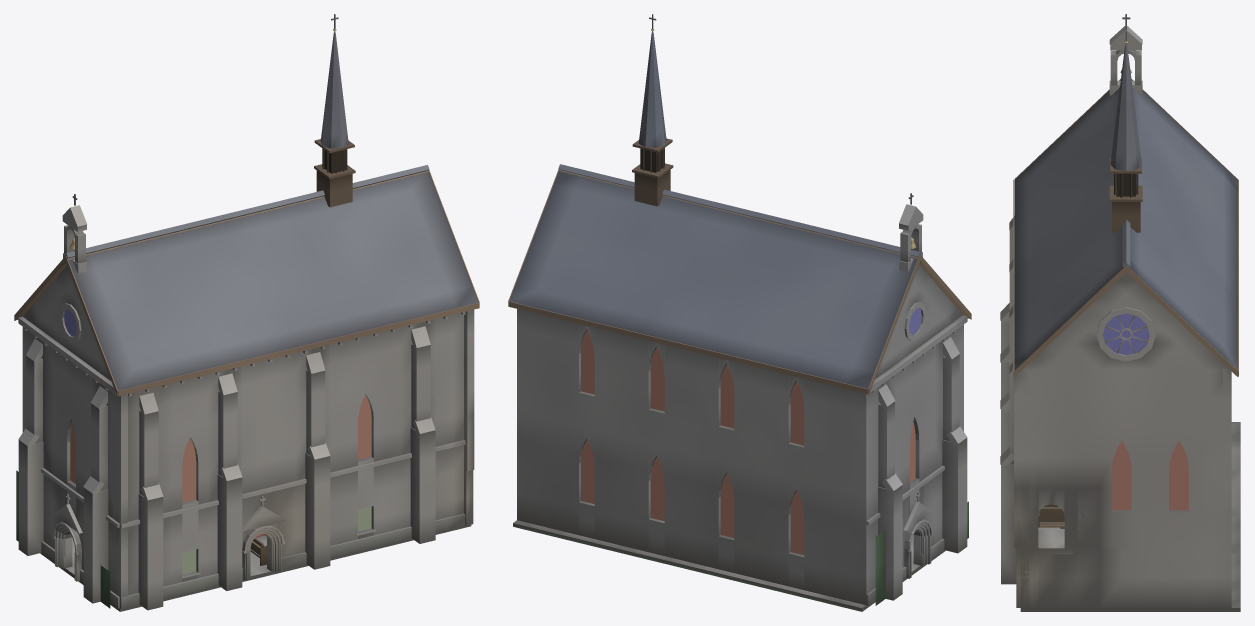
The model's file is chapel.glb.
The picture shows the model from 3 angles, left to right: view 1: azimuth 30°, elevation 25°; view 2: azimuth 150°, elevation 25°; view 3: azimuth 270°, elevation 25°; orthographic projection. The views are drawn at different scales.
Visible parts, largest first — view 1: roof_10x21.001, gable_chapel_west.001, buttress_chapel.004, buttress_chapel.001, buttress_chapel.002, buttress_chapel.003, buttress_chapel.005, buttress_chapel.006, fleche.001, wall_ashlar_tall_lancet.010, wall_ashlar_tall_lancet.009, wall_ashlar_4.040 (+33 smaller); view 2: roof_10x21.001, gable_chapel_west.001, buttress_chapel.006, buttress_chapel.005, fleche.001, wall_ashlar_tall_lancet.007, wall_ashlar_tall_lancet.001, wall_ashlar_tall_lancet.005, wall_ashlar_tall_lancet.003, wall_ashlar_tall_lancet.008, wall_ashlar_tall_lancet.004, wall_ashlar_tall_lancet.002 (+45 smaller); view 3: roof_10x21.001, gable_chapel_east.001, wall_ashlar_4.042, wall_ashlar_4.043, wall_ashlar_tall_lancet.013, fleche.001, wall_ashlar_tall_lancet.012, wall_ashlar_2.052, wall_ashlar_2.053, wall_ashlar_2.051, buttress_chapel.004, wall_ashlar_2.054 (+42 smaller).
Boxes of the visible parts, <box> form: roof_10x21.001: <box>14,165,479,396</box>; gable_chapel_west.001: <box>23,194,110,380</box>; buttress_chapel.004: <box>410,326,435,543</box>; buttress_chapel.001: <box>138,392,163,610</box>; buttress_chapel.002: <box>217,373,242,590</box>; buttress_chapel.003: <box>305,352,330,569</box>; buttress_chapel.005: <box>18,338,43,555</box>; buttress_chapel.006: <box>83,386,108,603</box>; fleche.001: <box>314,14,355,207</box>; wall_ashlar_tall_lancet.010: <box>348,379,383,497</box>; wall_ashlar_tall_lancet.009: <box>172,421,207,540</box>; wall_ashlar_4.040: <box>383,361,453,433</box>; roof_10x21.001: <box>508,164,971,394</box>; gable_chapel_west.001: <box>875,193,962,379</box>; buttress_chapel.006: <box>942,337,967,553</box>; buttress_chapel.005: <box>878,384,902,600</box>; fleche.001: <box>632,14,673,206</box>; wall_ashlar_tall_lancet.007: <box>569,423,604,541</box>; wall_ashlar_tall_lancet.001: <box>779,474,813,592</box>; wall_ashlar_tall_lancet.005: <box>639,440,673,558</box>; wall_ashlar_tall_lancet.003: <box>709,457,743,575</box>; wall_ashlar_tall_lancet.008: <box>569,321,604,431</box>; wall_ashlar_tall_lancet.004: <box>709,355,743,465</box>; wall_ashlar_tall_lancet.002: <box>779,373,813,482</box>; roof_10x21.001: <box>1013,79,1238,376</box>; gable_chapel_east.001: <box>1024,272,1227,368</box>; wall_ashlar_4.042: <box>1143,548,1231,607</box>; wall_ashlar_4.043: <box>1056,545,1143,607</box>; wall_ashlar_tall_lancet.013: <box>1099,428,1143,548</box>; fleche.001: <box>1109,25,1142,232</box>; wall_ashlar_tall_lancet.012: <box>1157,428,1200,548</box>; wall_ashlar_2.052: <box>1099,368,1143,428</box>; wall_ashlar_2.053: <box>1029,428,1073,488</box>; wall_ashlar_2.051: <box>1157,368,1200,428</box>; buttress_chapel.004: <box>1000,360,1016,584</box>; wall_ashlar_2.054: <box>1029,368,1073,428</box>.
Size of the model in its own units: 21.25 by 27.1 by 10.92.
